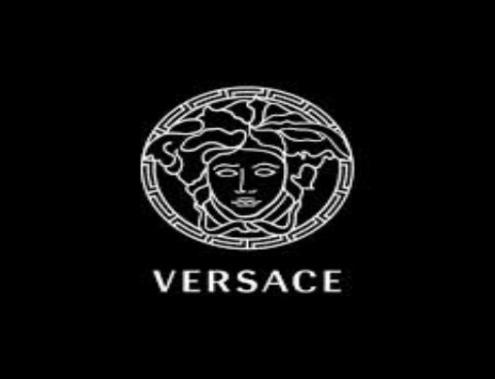VERSACE: (110, 63, 369, 312)
